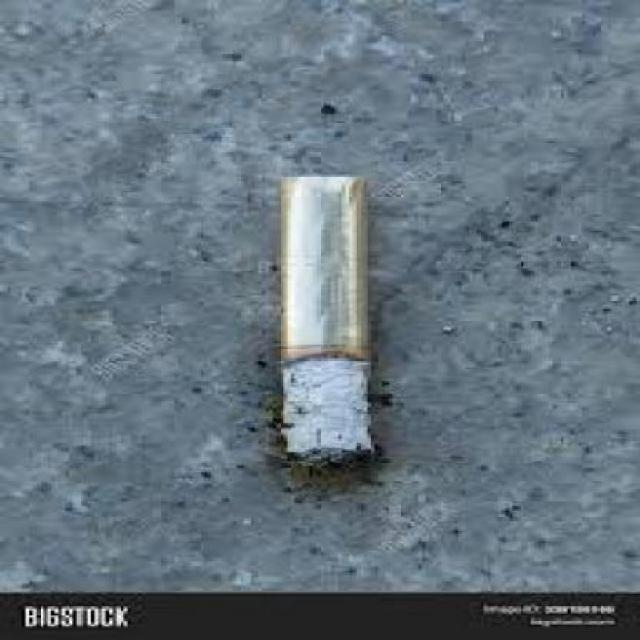cigarette: (254, 183, 400, 474)
